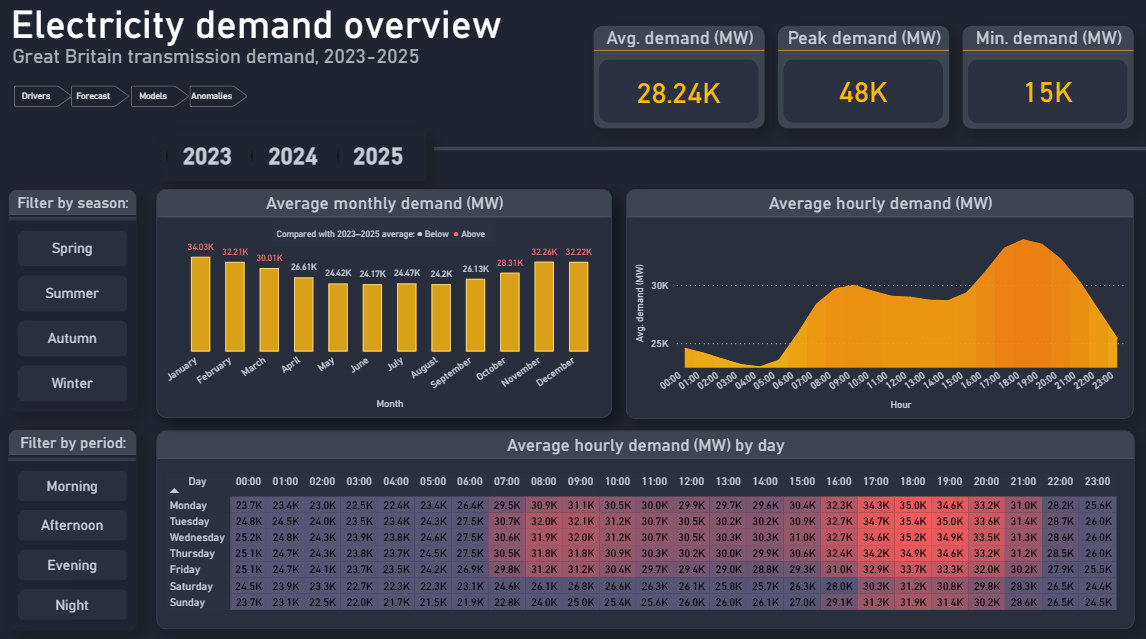

The page's visual inventory and layout, read from the dashboard file:
{"tool":"powerbi","page":{"name":"Overview","canvas":[1280,720],"ordinal":0},"visuals":[{"type":"shape","box":[12.8,187.2,142.6,119.1],"z":0},{"type":"shape","box":[486.7,108.3,791.7,120],"z":1000},{"type":"areaChart","title":"Average hourly demand (MW) ","fields":{"Category":["dim_time.hour_label"],"Y":["_Measures.Avg demand (MW)"]},"box":[700,213.2,564.2,255.3],"z":2000},{"type":"columnChart","title":"Average monthly demand (MW)","fields":{"Category":["fct_demand.datetime.Variation.Date Hierarchy.Month"],"Y":["_Measures.Avg demand (MW)"]},"box":[178.6,213.6,505.7,254.3],"z":2000,"group":"g4"},{"type":"pivotTable","title":"Average hourly demand (MW) by day","fields":{"Columns":["dim_time.hour_label"],"Rows":["dim_calendar.day_name"],"Values":["_Measures.Avg demand (MW)"]},"box":[178.2,481.4,1086.5,220.5],"z":3000},{"type":"advancedSlicerVisual","title":"Filter by season:","fields":{"Values":["dim_calendar.season"]},"box":[12.8,212.8,143,247],"z":4000},{"type":"group","id":"g1","title":"Group 2","box":[663.5,31.7,581.3,117.1],"z":5000},{"type":"group","id":"g2","title":"Group 4","box":[663.5,31.7,191.5,114.9],"z":6000,"group":"g1"},{"type":"advancedSlicerVisual","fields":{"Values":["dim_calendar.year"]},"box":[182.8,148.4,293.8,56.2],"z":6000},{"type":"cardVisual","title":"Peak demand (MW)","fields":{"Data":["_Measures.Peak demand (MW)"]},"box":[868,32,191.5,114.9],"z":7000},{"type":"cardVisual","title":"Min. demand (MW)","fields":{"Data":["_Measures.Min demand (MW)"]},"box":[1073,31.3,191.3,115.5],"z":8000},{"type":"cardVisual","title":"Avg. demand (MW)","fields":{"Data":["_Measures.Avg demand (MW)"]},"box":[663.5,31.7,191.5,114.9],"z":8000,"group":"g2"},{"type":"group","id":"g3","title":"Group 1","box":[13.3,452.5,143.3,250],"z":9000},{"type":"advancedSlicerVisual","title":"Filter by period:","fields":{"Values":["dim_time.period_of_day"]},"box":[13.3,478.5,143.1,224.2],"z":9000,"group":"g3"},{"type":"textbox","box":[10.9,0,626.4,67.9],"z":10000},{"type":"textbox","box":[13.5,48.3,540,48.3],"z":11000},{"type":"shape","box":[13.5,452.5,142.1,121.1],"z":11001,"group":"g3"},{"type":"actionButton","box":[19.8,97.6,65.2,23.8],"z":12000},{"type":"actionButton","box":[84,97.6,65.2,23.8],"z":13000},{"type":"actionButton","box":[149.3,97.6,65.2,23.8],"z":14000},{"type":"actionButton","box":[214.6,97.6,65.2,23.8],"z":15000},{"type":"group","id":"g4","title":"Group 3","box":[178.6,213.6,505.7,254.3],"z":16000},{"type":"textbox","box":[306.9,246.6,248.9,31.3],"z":16501,"group":"g4"}]}

Visuals, with their boxes in screenshot pixels (x1, y1, x2, y2), scaled from the page's 1280x720 canvas onto the 1146x639 screenshot:
shape: box(11, 166, 139, 272)
shape: box(436, 96, 1145, 203)
"Average hourly demand (MW) " areaChart: box(627, 189, 1132, 416)
"Average monthly demand (MW)" columnChart: box(160, 190, 613, 415)
"Average hourly demand (MW) by day" pivotTable: box(160, 427, 1132, 623)
"Filter by season:" advancedSlicerVisual: box(11, 189, 139, 408)
"Group 2" group: box(594, 28, 1114, 132)
"Group 4" group: box(594, 28, 765, 130)
advancedSlicerVisual - dim_calendar.year: box(164, 132, 427, 182)
"Peak demand (MW)" cardVisual: box(777, 28, 949, 130)
"Min. demand (MW)" cardVisual: box(961, 28, 1132, 130)
"Avg. demand (MW)" cardVisual: box(594, 28, 765, 130)
"Group 1" group: box(12, 402, 140, 623)
"Filter by period:" advancedSlicerVisual: box(12, 425, 140, 624)
textbox: box(10, 0, 571, 60)
textbox: box(12, 43, 496, 86)
shape: box(12, 402, 139, 509)
actionButton: box(18, 87, 76, 108)
actionButton: box(75, 87, 134, 108)
actionButton: box(134, 87, 192, 108)
actionButton: box(192, 87, 251, 108)
"Group 3" group: box(160, 190, 613, 415)
textbox: box(275, 219, 498, 247)
